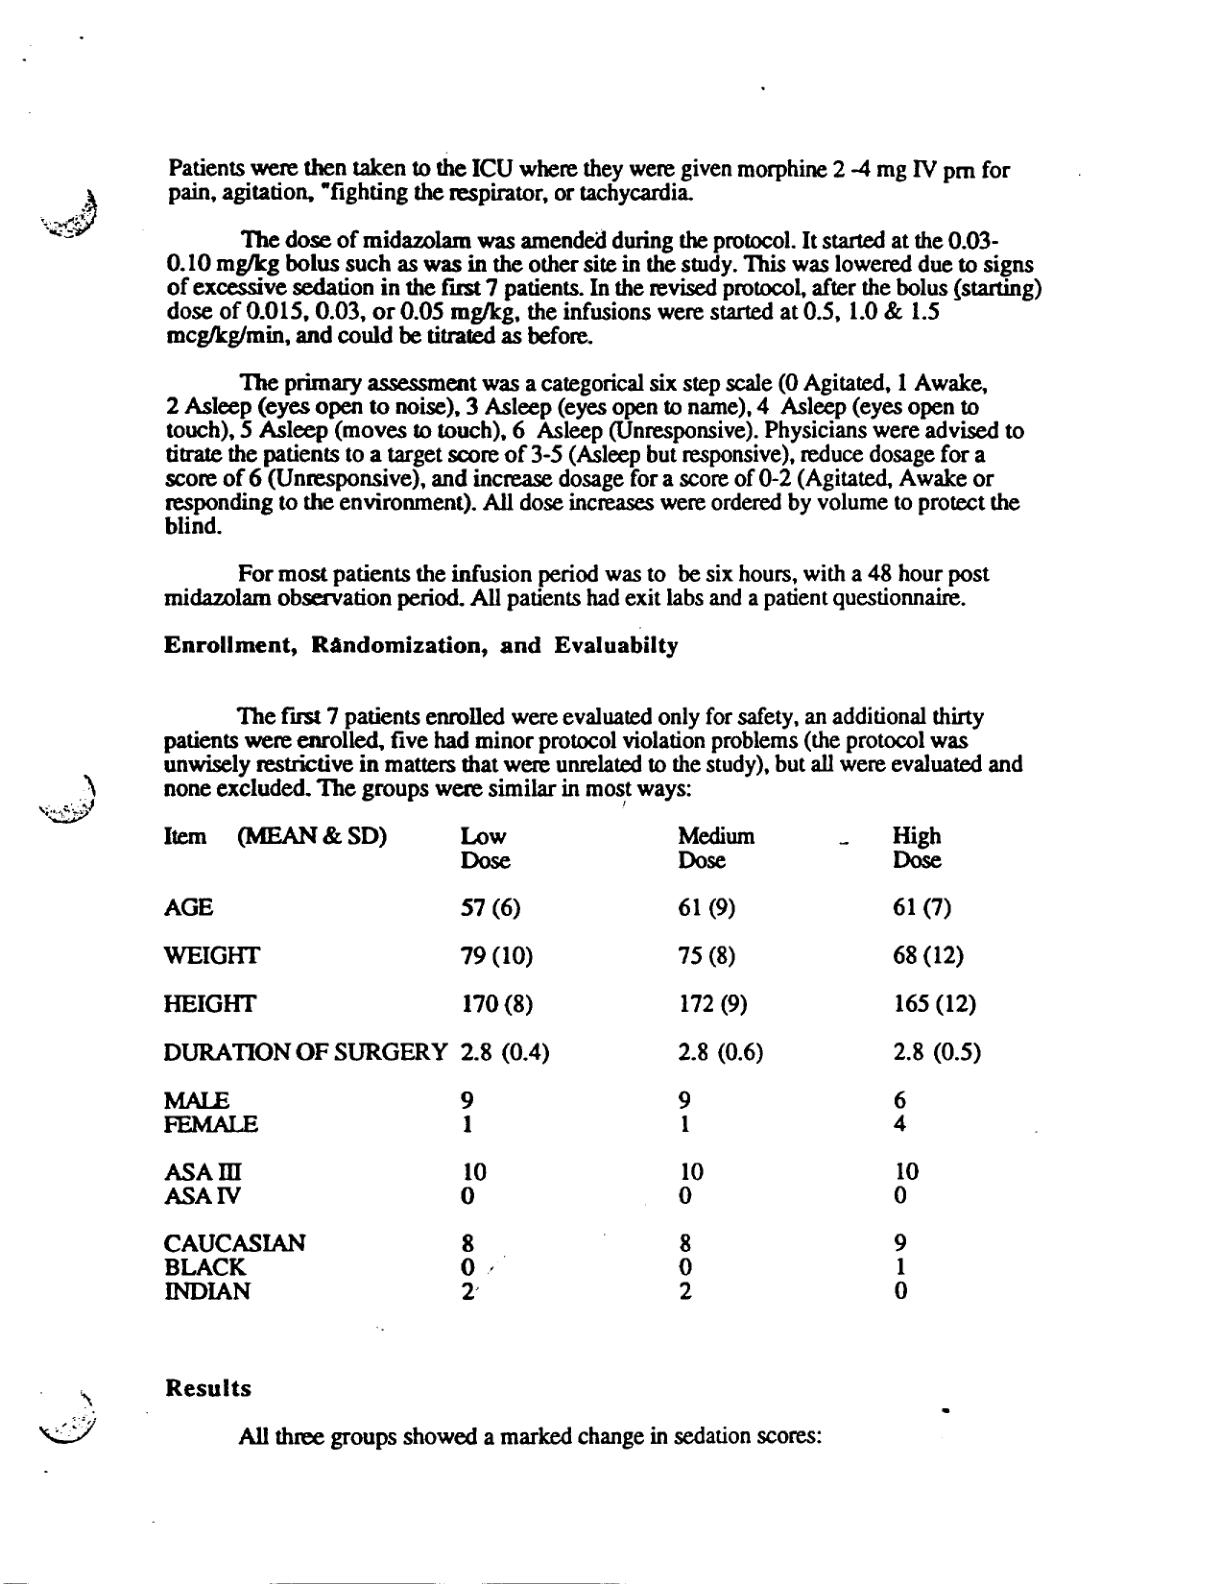nolines: (155, 821, 982, 1305)
